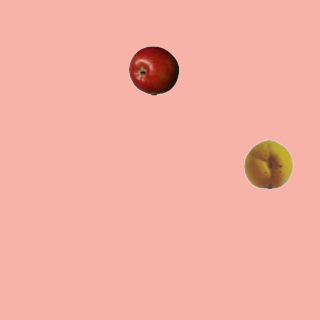Apple Braeburn: (128, 45, 178, 95)
Peach 2: (243, 138, 293, 188)
